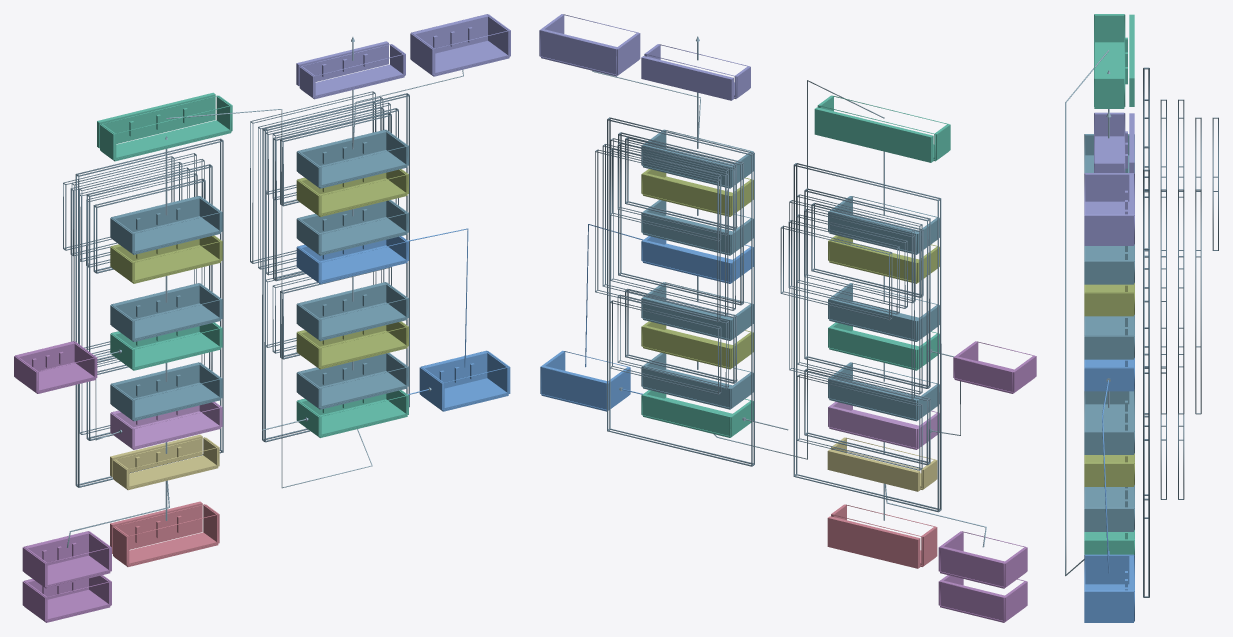
File: spatial-deepseek.glb
3 views of the same model, side by side, from view 1: azimuth 30°, elevation 25°; view 2: azimuth 150°, elevation 25°; view 3: azimuth 270°, elevation 25° (orthographic). The views are drawn at different scales.
Visible parts, largest first — view 1: body_hidden_states, body_text_embedding, body_target_head, rim_bottom_hidden_states, rim_bottom_decoder_moe_full, rim_bottom_decoder_moe_reindex, rim_bottom_decoder_reindex, rim_bottom_decoder_reuse, rim_bottom_decoder_reuse_first_node, rim_bottom_decoder_moe_reuse_first, rim_bottom_decoder_full, rim_bottom_decoder_moe_reuse (+38 smaller); view 2: body_hidden_states, body_text_embedding, body_target_head, body_dspark, body_embedding, body_encoder_swa, body_candidate_pool, repeat_encoder_panel-0.52, body_decoder_full, body_encoder_full, body_decoder_reuse_first_node, body_decoder_reindex (+32 smaller); view 3: rim_right_candidate_pool, rim_right_dspark, rim_left_candidate_pool, rim_left_dspark, rim_right_decoder_reuse, rim_right_decoder_moe_reuse, rim_right_decoder_reuse_first_node, rim_right_decoder_moe_full, rim_right_decoder_reindex, rim_right_decoder_moe_reuse_first, rim_bottom_decoder_moe_reuse_first, rim_right_decoder_moe_reindex (+29 smaller).
Part boxes in pixels (x1,y1,x2,y2): body_hidden_states: (97, 92, 215, 148); body_text_embedding: (110, 501, 202, 553); body_target_head: (296, 41, 388, 85); rim_bottom_hidden_states: (101, 120, 231, 161); rim_bottom_decoder_moe_full: (298, 371, 407, 409); rim_bottom_decoder_moe_reindex: (298, 217, 407, 255); rim_bottom_decoder_reindex: (298, 245, 407, 284); rim_bottom_decoder_reuse: (298, 178, 407, 216); rim_bottom_decoder_reuse_first_node: (298, 330, 407, 369); rim_bottom_decoder_moe_reuse_first: (298, 302, 407, 341); rim_bottom_decoder_full: (298, 399, 407, 437); rim_bottom_decoder_moe_reuse: (298, 150, 407, 188); body_hidden_states: (814, 107, 933, 162); body_text_embedding: (827, 516, 920, 568); body_target_head: (641, 56, 733, 100); body_dspark: (541, 29, 617, 74); body_embedding: (827, 449, 920, 491); body_encoder_swa: (829, 406, 916, 447); body_candidate_pool: (541, 366, 606, 409); repeat_encoder_panel-0.52: (793, 164, 939, 512); body_decoder_full: (643, 394, 731, 435); body_encoder_full: (829, 327, 916, 368); body_decoder_reuse_first_node: (643, 325, 731, 367); body_decoder_reindex: (643, 240, 730, 281); rim_right_candidate_pool: (1084, 590, 1133, 621); rim_right_dspark: (1084, 214, 1133, 244); rim_left_candidate_pool: (1084, 554, 1133, 584); rim_left_dspark: (1084, 173, 1133, 201); rim_right_decoder_reuse: (1084, 292, 1133, 315); rim_right_decoder_moe_reuse: (1084, 260, 1133, 283); rim_right_decoder_reuse_first_node: (1084, 462, 1133, 485); rim_right_decoder_moe_full: (1084, 507, 1133, 530); rim_right_decoder_reindex: (1084, 367, 1133, 390); rim_right_decoder_moe_reuse_first: (1084, 430, 1133, 453); rim_bottom_decoder_moe_reuse_first: (1084, 404, 1133, 454); rim_right_decoder_moe_reindex: (1084, 336, 1133, 358).
Size of the model in its own units: 16.29 by 16.44 by 4.09.
